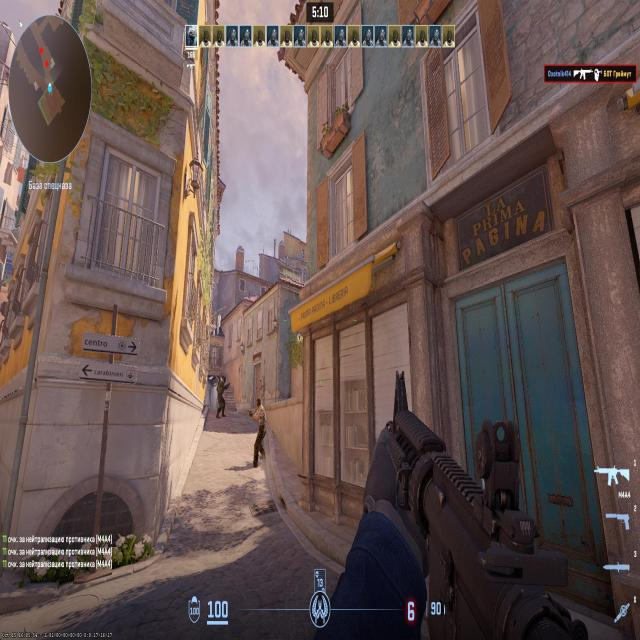CT: (220, 376, 226, 409)
CT_heat: (222, 378, 225, 386)
T: (258, 397, 266, 457)
T_heat: (259, 404, 262, 413)
